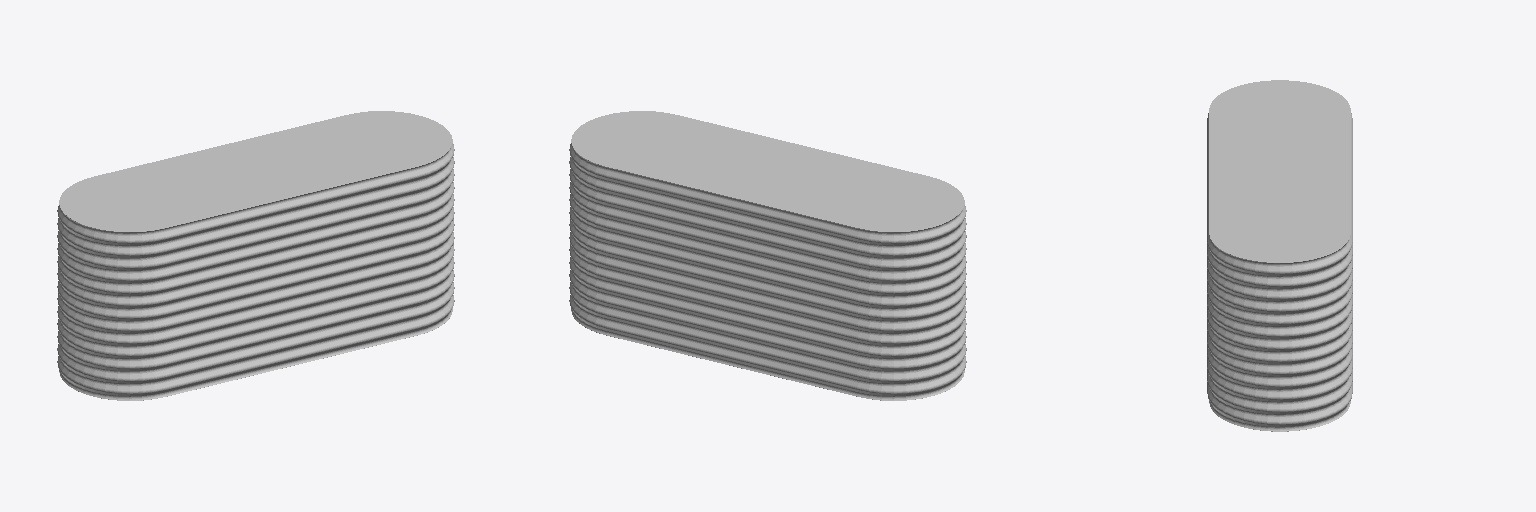
Rendered from Slimline_v2.obj.
3 renders of one model, left to right at view 1: azimuth 30°, elevation 25°; view 2: azimuth 150°, elevation 25°; view 3: azimuth 270°, elevation 25°, orthographic.
Parts seen in each view (by area): view 1: 0      011_0; view 2: 0      011_0; view 3: 0      011_0.
Part boxes in pixels (bbox=[...]): 0      011_0: bbox=[57, 111, 454, 400]; 0      011_0: bbox=[569, 111, 966, 400]; 0      011_0: bbox=[1207, 80, 1352, 431].
Bounding box in the file's own units: 60.96 × 26.02 × 20.32.